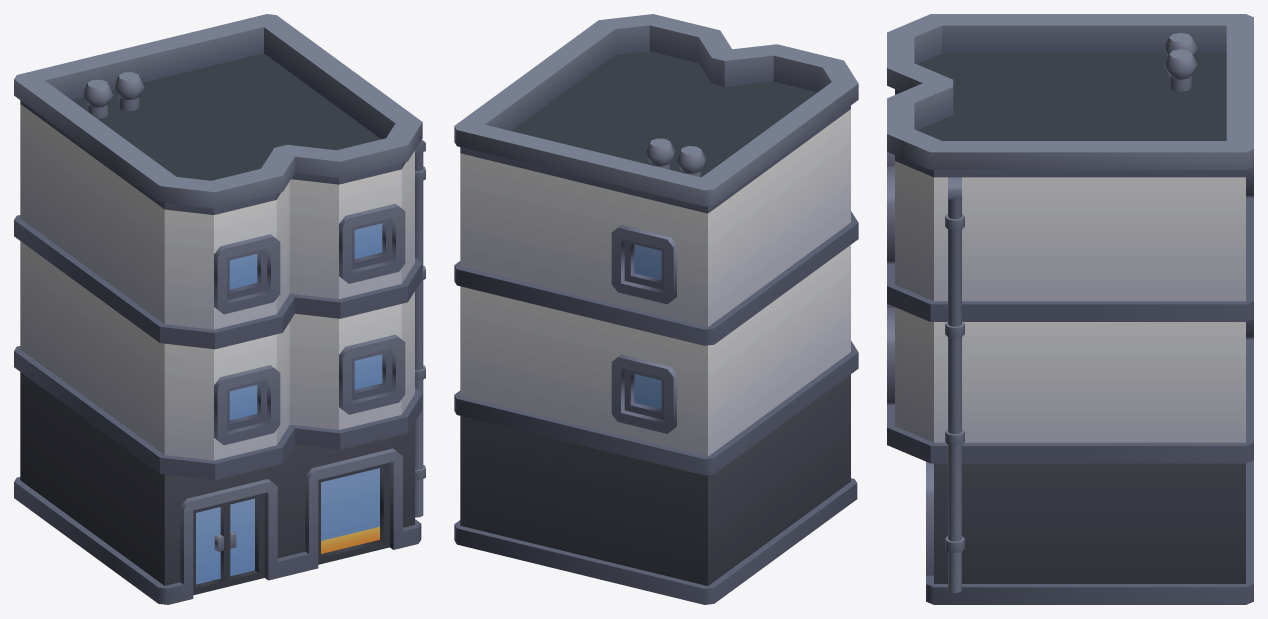
Rendered from bld_mid_a.glb.
The picture shows the model from 3 angles, left to right: view 1: azimuth 30°, elevation 25°; view 2: azimuth 150°, elevation 25°; view 3: azimuth 270°, elevation 25°; orthographic projection. The views are drawn at different scales.
Visible parts, largest first — view 1: building-a; view 2: building-a; view 3: building-a.
Boxes of the visible parts, x1,y1,x2,y2 form: building-a: [14, 14, 425, 604]; building-a: [454, 14, 858, 604]; building-a: [887, 14, 1253, 604].
Size of the model in its own units: 6.83 by 10 by 7.27.
Materials: 1 (1 with a texture image).
